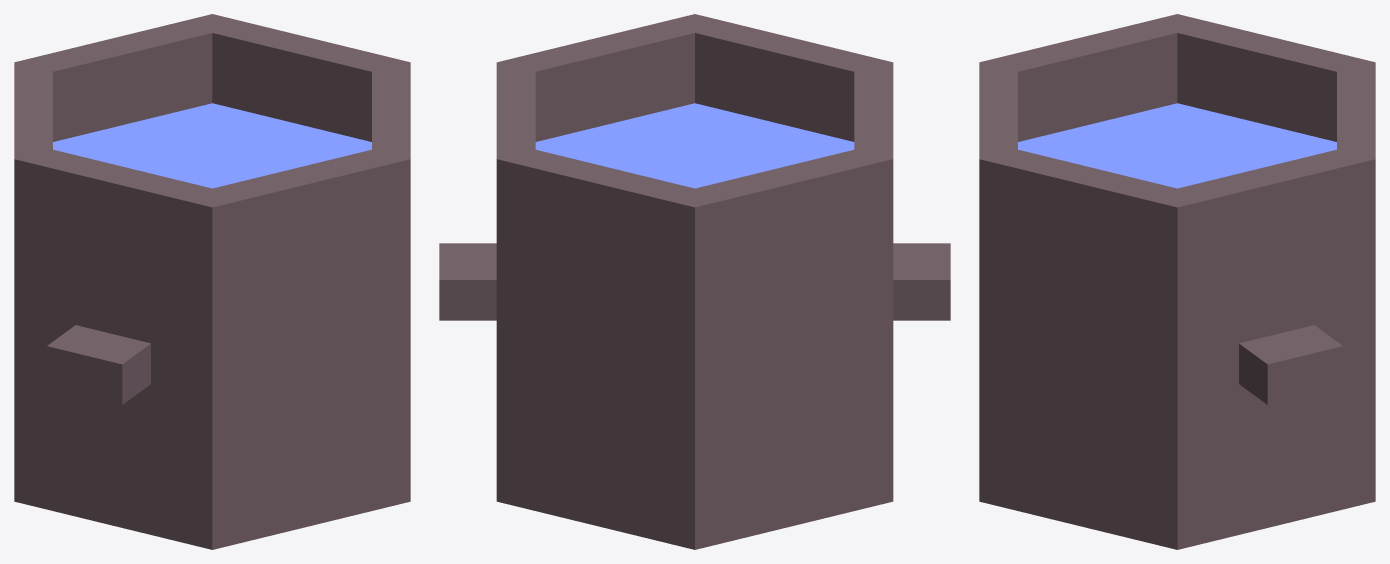
Rendered from Pot.fbx.
3 views of the same model, side by side, from view 1: azimuth 30°, elevation 25°; view 2: azimuth 150°, elevation 25°; view 3: azimuth 270°, elevation 25° (orthographic).
Parts seen in each view (by area): view 1: Cylinder_5; view 2: Cylinder_5; view 3: Cylinder_5.
Boxes of the visible parts, x1,y1,x2,y2 form: Cylinder_5: (14, 14, 410, 549); Cylinder_5: (439, 14, 950, 549); Cylinder_5: (979, 14, 1375, 549).
Size of the model in its own units: 89.23 by 69.31 by 72.73.
